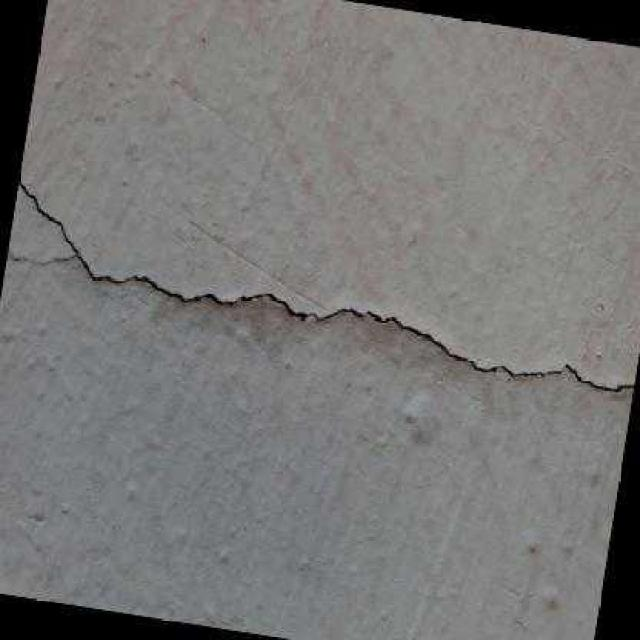D00: (17, 179, 634, 394)
